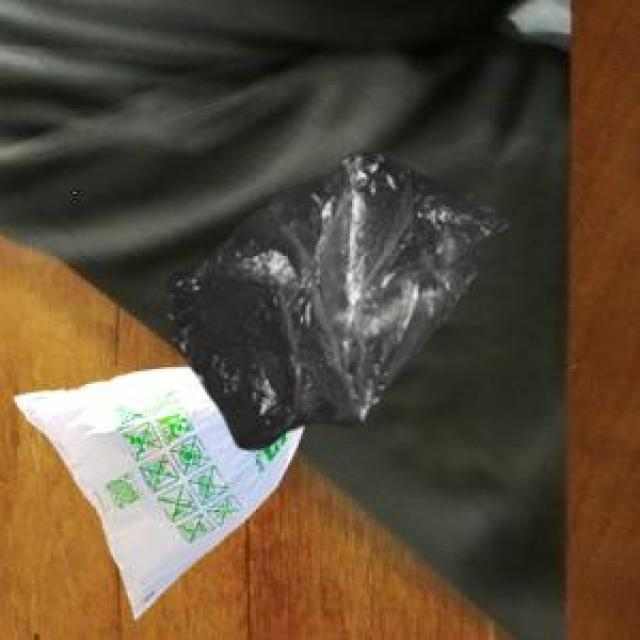waste: (174, 155, 506, 448), (15, 368, 302, 616)
